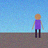person: (32, 14, 43, 38)
